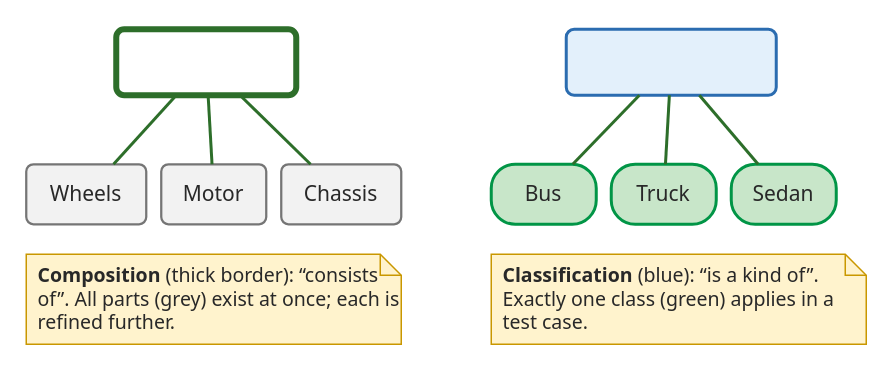
This 894x371 diagram has some shape labels left out. Here are the shapes that lost their labels. From the top down, the centre of each, then its label:
the point at 205,62: Car
the point at 670,61: Vehicle type
